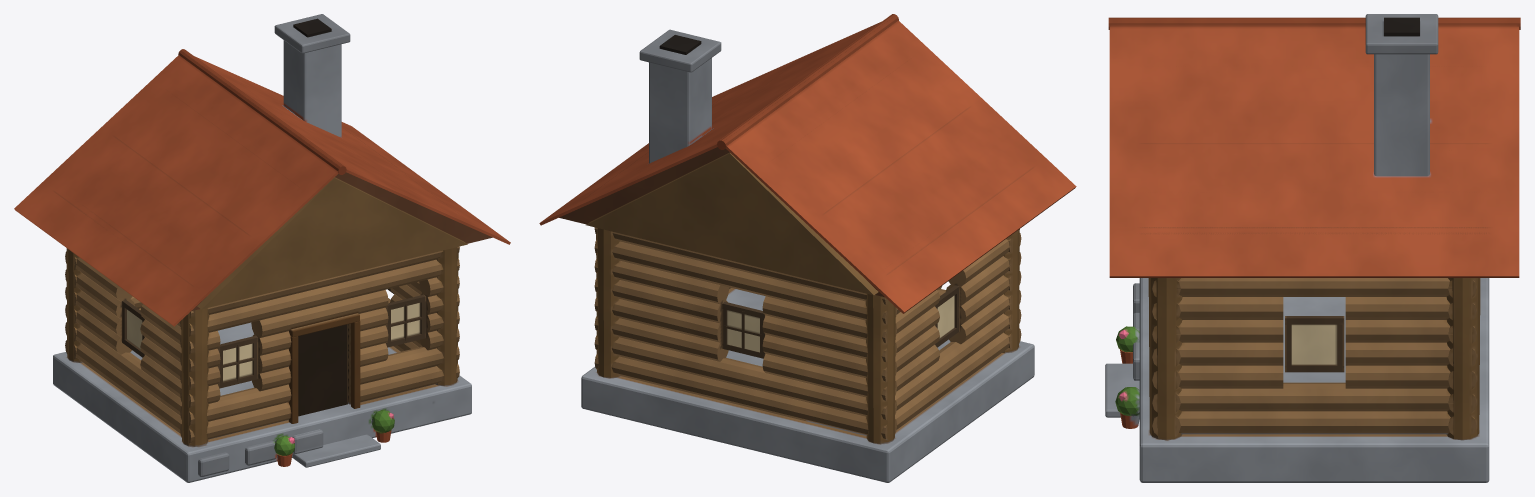
The model's file is house.hi.glb.
3 renders of one model, left to right at view 1: azimuth 30°, elevation 25°; view 2: azimuth 150°, elevation 25°; view 3: azimuth 270°, elevation 25°, orthographic. The views are drawn at different scales.
Visible parts, largest first — view 1: house.001; view 2: house.001; view 3: house.001.
Boxes of the visible parts, left/top/right/bottom form: house.001: left=14, top=14, right=510, bottom=482; house.001: left=539, top=14, right=1076, bottom=482; house.001: left=1105, top=14, right=1520, bottom=482.
Size of the model in its own units: 8.05 by 7.46 by 6.65.
Materials: 1 (1 with a texture image).
